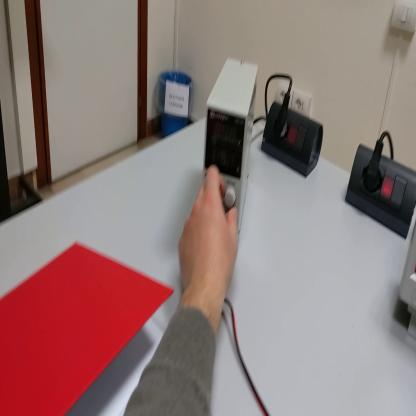hand: (179, 165, 239, 299)
oscilloscope: (401, 210, 416, 343)
power supply: (201, 63, 258, 249)
register: (2, 239, 175, 415)
socket: (345, 139, 416, 242), (261, 100, 323, 179)
